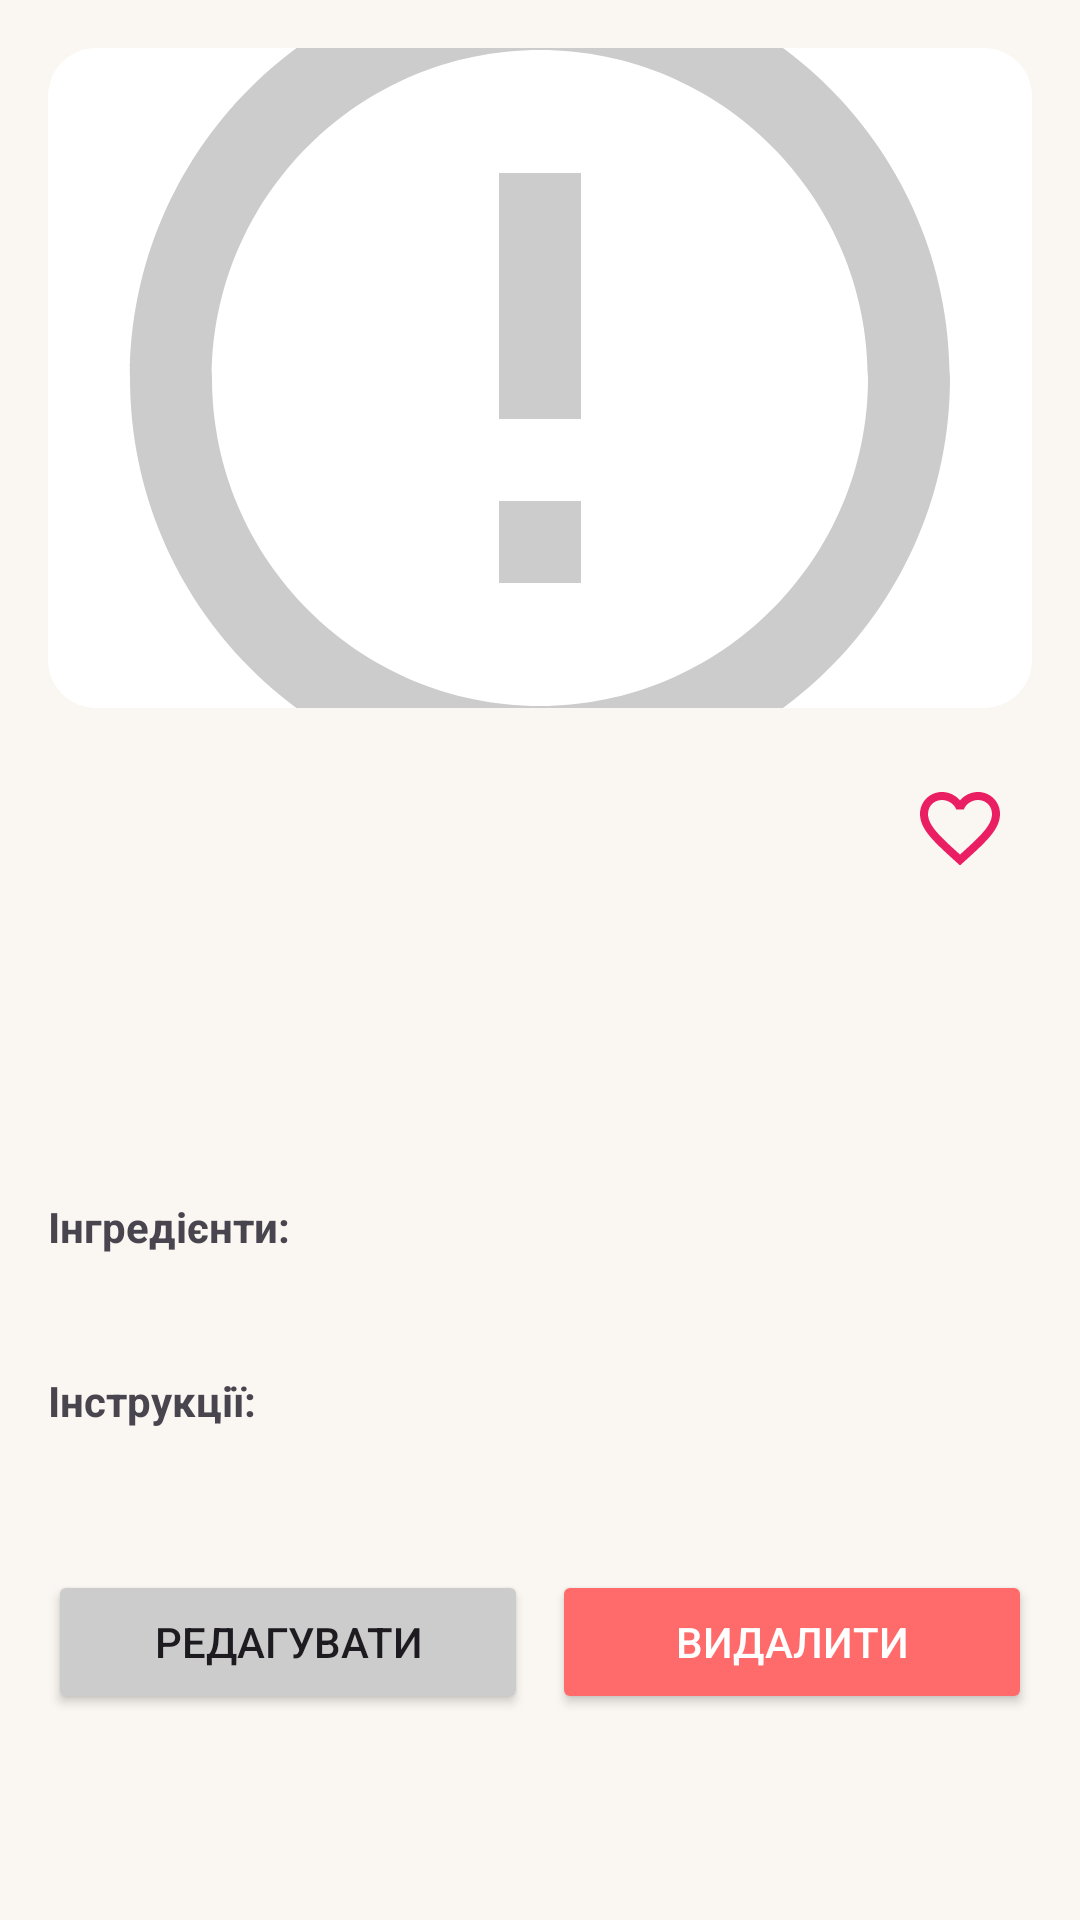

Where icons sit on this 1080 x 1920 app screen, as detection(x1, y1, x2, y2):
Зберегти: detection(920, 792, 1000, 865)
